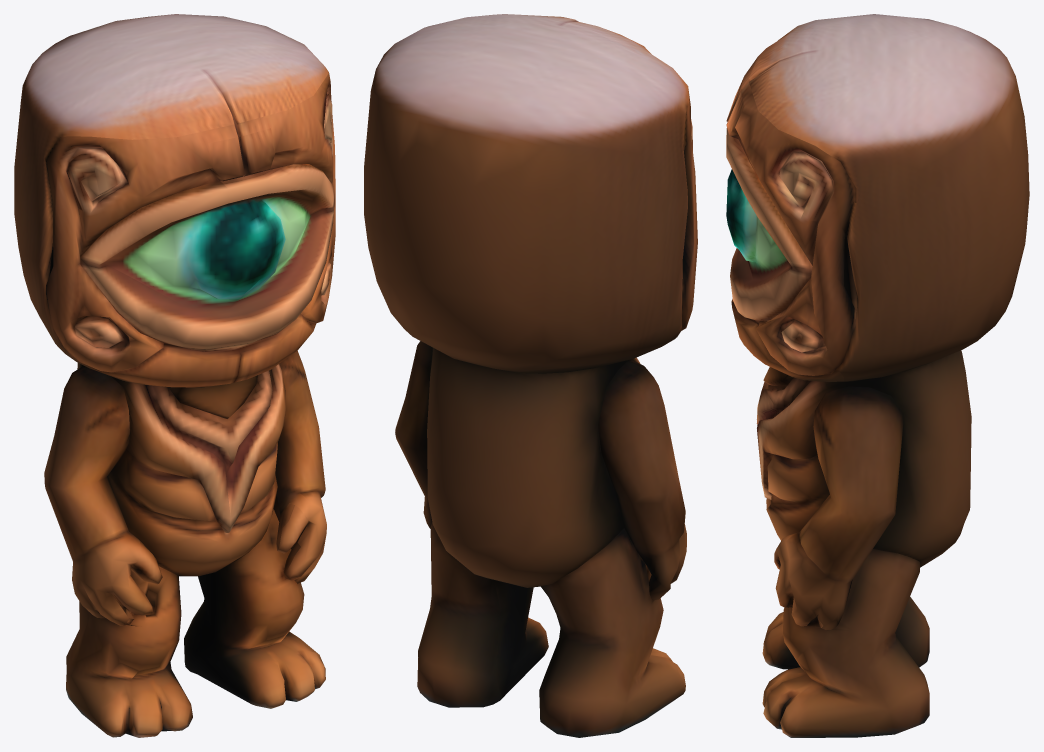
The model's file is observer-ward.glb.
3 views of the same model, side by side, from view 1: azimuth 30°, elevation 25°; view 2: azimuth 150°, elevation 25°; view 3: azimuth 270°, elevation 25° (orthographic). The views are drawn at different scales.
Visible parts, largest first — view 1: part_00000001; view 2: part_00000001; view 3: part_00000001.
Part boxes in pixels (x1=…): part_00000001: x1=14, y1=14, x2=335, y2=737; part_00000001: x1=364, y1=14, x2=697, y2=737; part_00000001: x1=726, y1=14, x2=1029, y2=737.
Bounding box in the file's own units: 0.8907 × 1.9 × 0.8163.
Materials: 1 (1 with a texture image).
